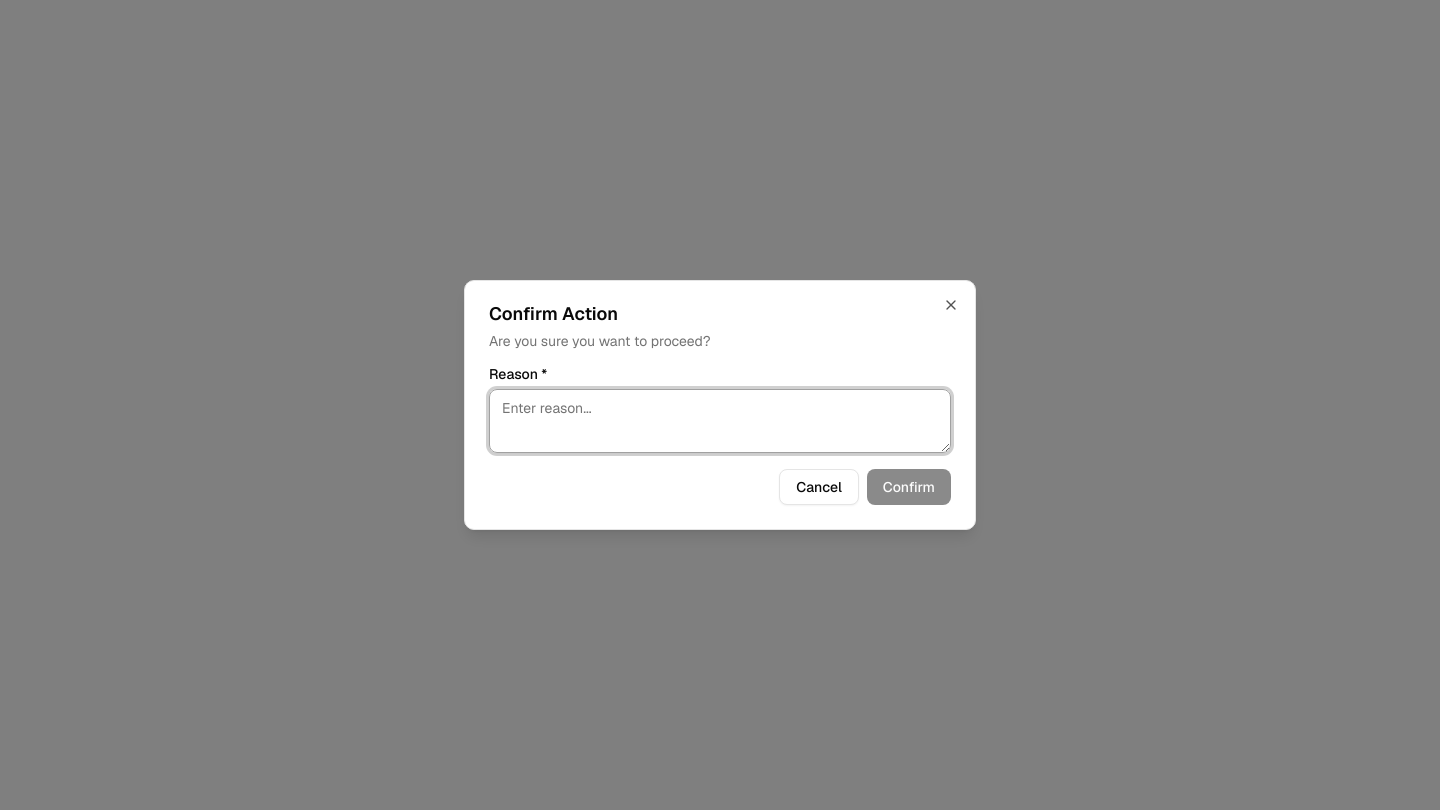
ConfirmActionDialog › enables confirm when reason is required and provided
Type "Some reason" into the text box labelled "Reason *".
click(720, 421); type("Some reason")  # box 489,389 -> 951,453
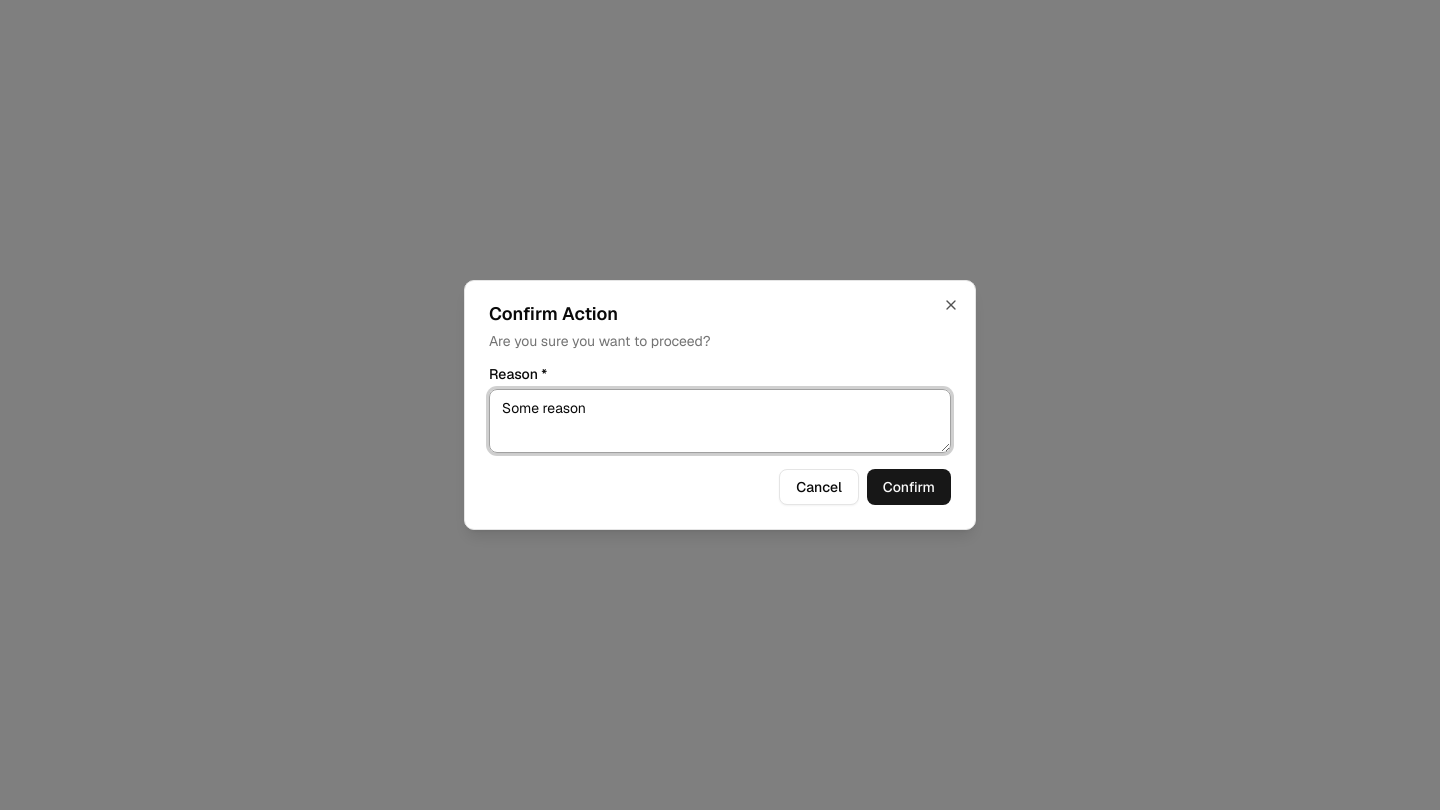
Expected: the button "Confirm" is enabled, 867,469 -> 951,505
